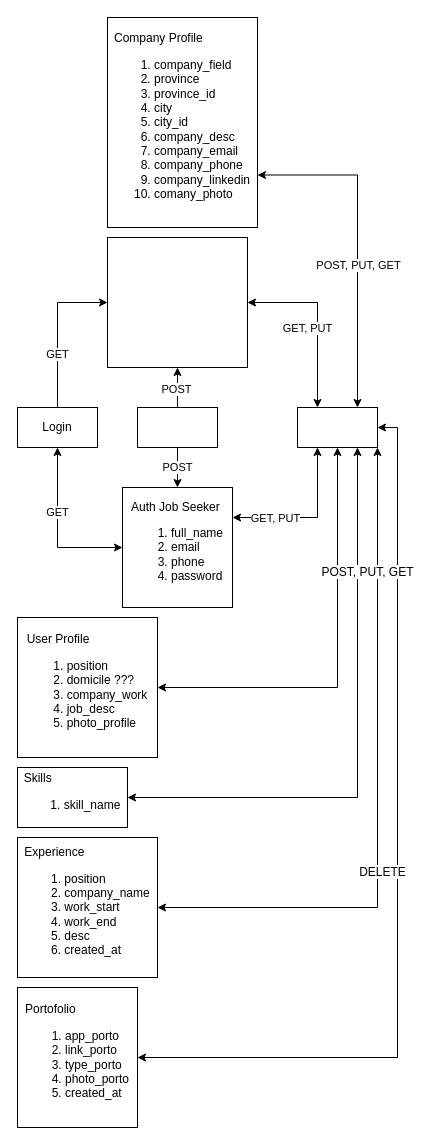
The diagram is 445 pixels wide and 1145 high, and some of its shapes have lost their labels. Here are the shapes that lost their labels. From the top down, the centre of each, then its label:
At [177,302]: "Auth Company username email password phone perusahaan jabatan".
At [177,427]: "Regist".
At [337,427]: "Profile".
